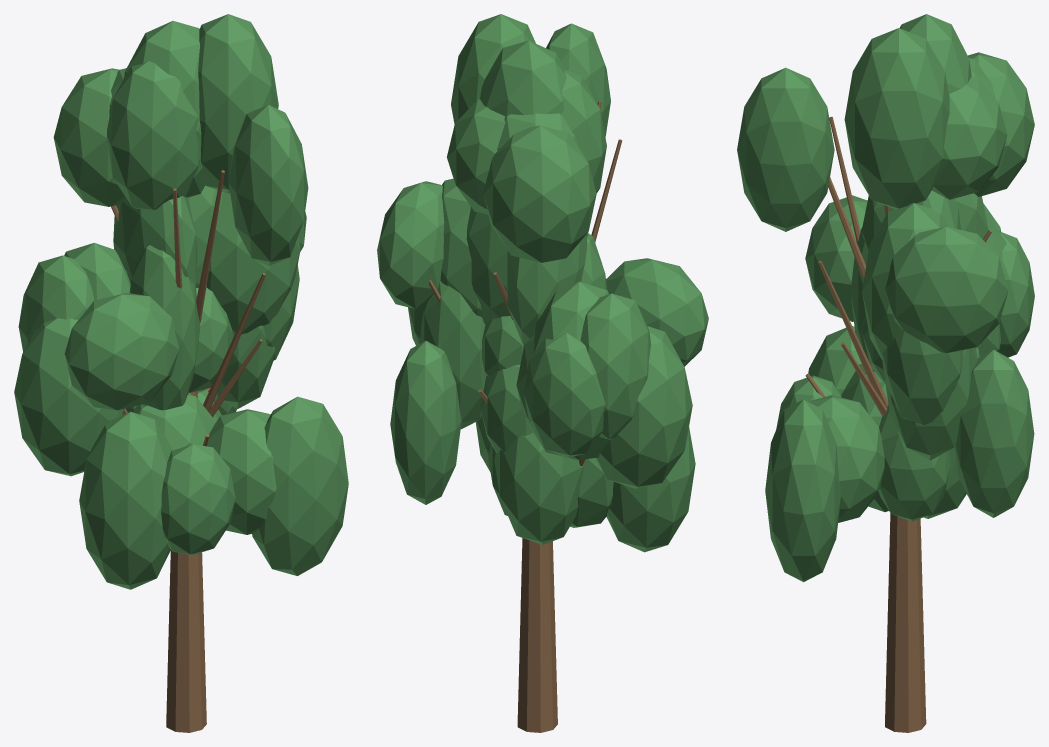
The model's file is tree_column.glb.
The picture shows the model from 3 angles, left to right: view 1: azimuth 30°, elevation 25°; view 2: azimuth 150°, elevation 25°; view 3: azimuth 270°, elevation 25°; orthographic projection. The views are drawn at different scales.
Visible parts, largest first — view 1: foliage, trunk; view 2: foliage, trunk; view 3: foliage, trunk.
Boxes of the visible parts, bbox=[...] form: foliage: bbox=[14, 14, 348, 589]; trunk: bbox=[111, 170, 265, 732]; foliage: bbox=[377, 14, 708, 552]; trunk: bbox=[429, 101, 622, 732]; foliage: bbox=[737, 14, 1034, 582]; trunk: bbox=[805, 116, 991, 732].
Size of the model in its own units: 4.43 by 10.38 by 3.92.
